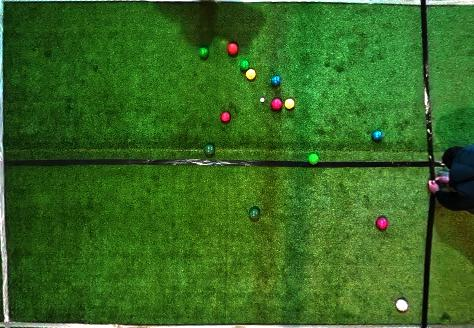blue: (270, 75, 281, 86), (372, 130, 382, 141)
green: (308, 153, 319, 165), (249, 207, 260, 219), (204, 143, 215, 155), (199, 46, 208, 58), (240, 60, 249, 70)
red: (395, 299, 408, 312), (376, 218, 388, 230), (227, 42, 238, 55), (271, 98, 282, 111), (221, 111, 230, 123)
vline: (420, 1, 473, 177), (421, 196, 474, 327), (0, 1, 14, 327)
white: (260, 97, 265, 103)
yellow: (284, 98, 295, 109), (246, 69, 256, 80)
